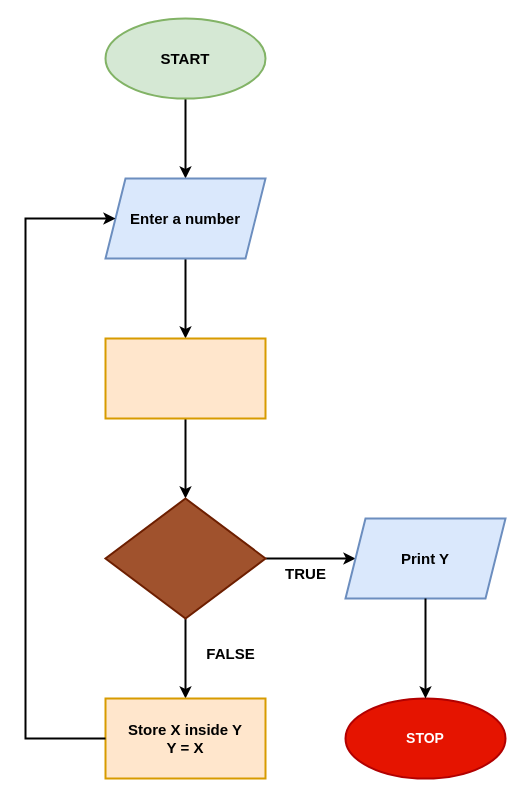
This 523x796 diagram has some shape labels left out. Here are the shapes that lost their labels. From the top down, the box of each, then its label:
(104, 337, 266, 419): X = Number entered Y
(104, 497, 266, 619): IF X < 0
